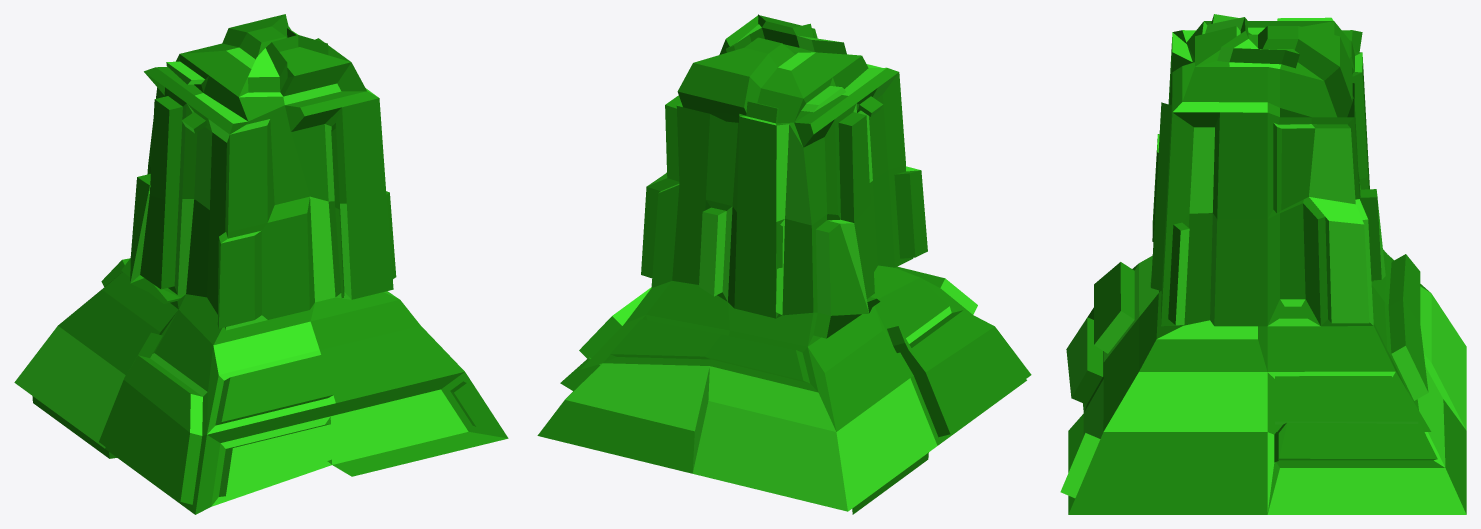
File: groundCharger.glb
The picture shows the model from 3 angles, left to right: view 1: azimuth 30°, elevation 25°; view 2: azimuth 150°, elevation 25°; view 3: azimuth 270°, elevation 25°; orthographic projection. The views are drawn at different scales.
Visible parts, largest first — view 1: Cube; view 2: Cube; view 3: Cube.
Boxes of the visible parts, x1,y1,x2,y2 form: Cube: [14, 14, 508, 514]; Cube: [537, 14, 1031, 514]; Cube: [1060, 14, 1466, 514].
Size of the model in its own units: 6.18 by 7.14 by 6.12.
Materials: 1 (1 with a texture image).
